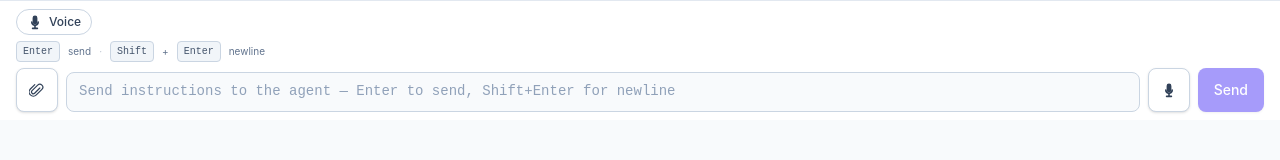
Test: MessageInput · voice input › shows mic button and toggles recording state when supported
expect the button with test id "voice-mode-chip" reads "Voice": met, box [16, 9, 92, 35]
Click the button with test id "mic-btn" at (1169, 90), box [1148, 68, 1190, 112]
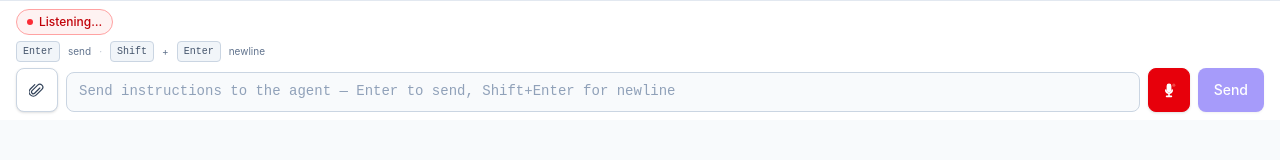
expect the button with test id "voice-mode-chip" shows "Listening": met, box [16, 9, 113, 35]
Click the button with test id "mic-btn" at (1169, 90), box [1148, 68, 1190, 112]
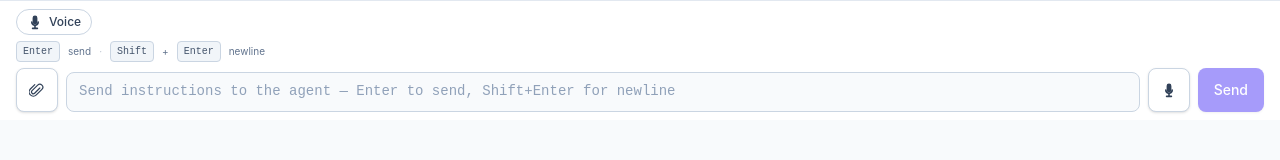
expect the button with test id "voice-mode-chip" reads "Voice": met, box [16, 9, 92, 35]
